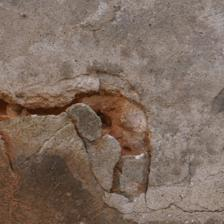Crack: (26, 78, 176, 141), (21, 26, 132, 106), (77, 62, 159, 87)
